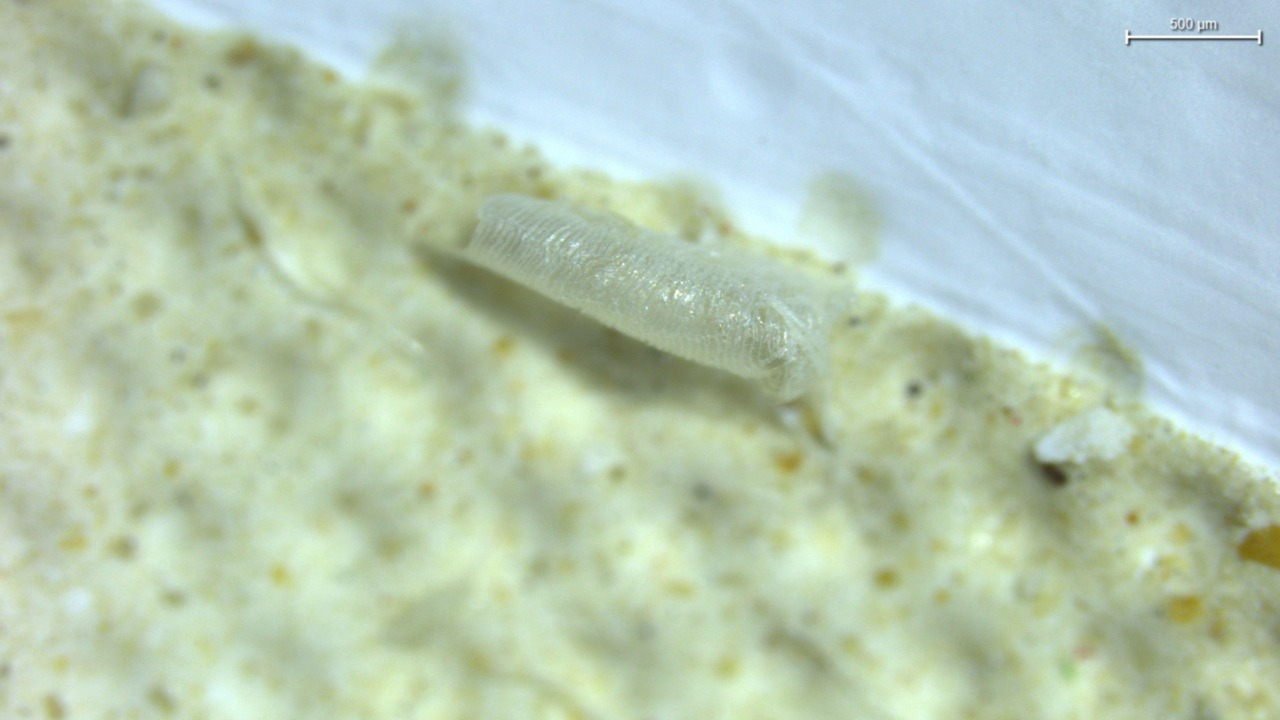microplastic_fragment: (462, 195, 855, 402)
